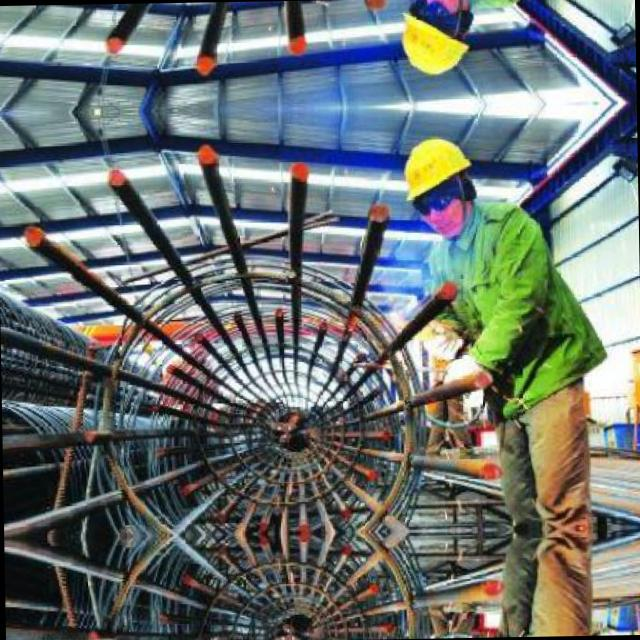helmet: (391, 130, 478, 238), (388, 0, 477, 80)
